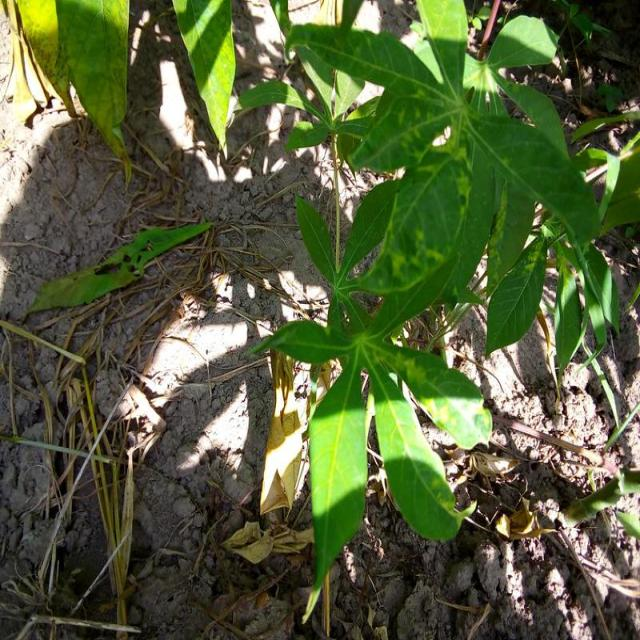cassava leaf: (248, 1, 618, 625), (301, 359, 368, 624), (171, 0, 236, 159)
